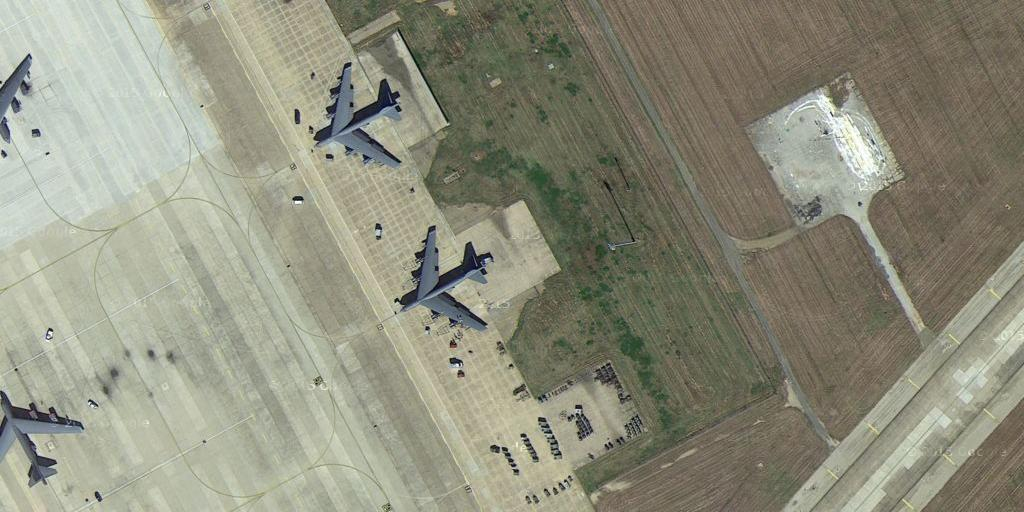B-52: (311, 55, 409, 177), (398, 224, 497, 337), (1, 385, 87, 490)
